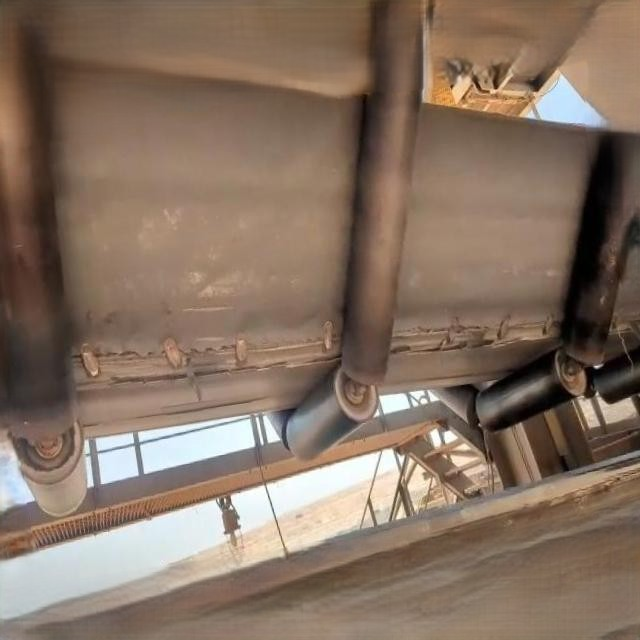Tear: (65, 314, 348, 392), (380, 309, 561, 355)
